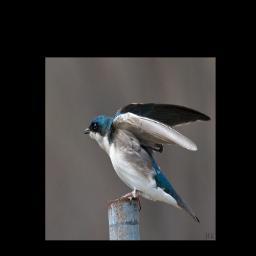Swallow: (82, 100, 212, 225)
